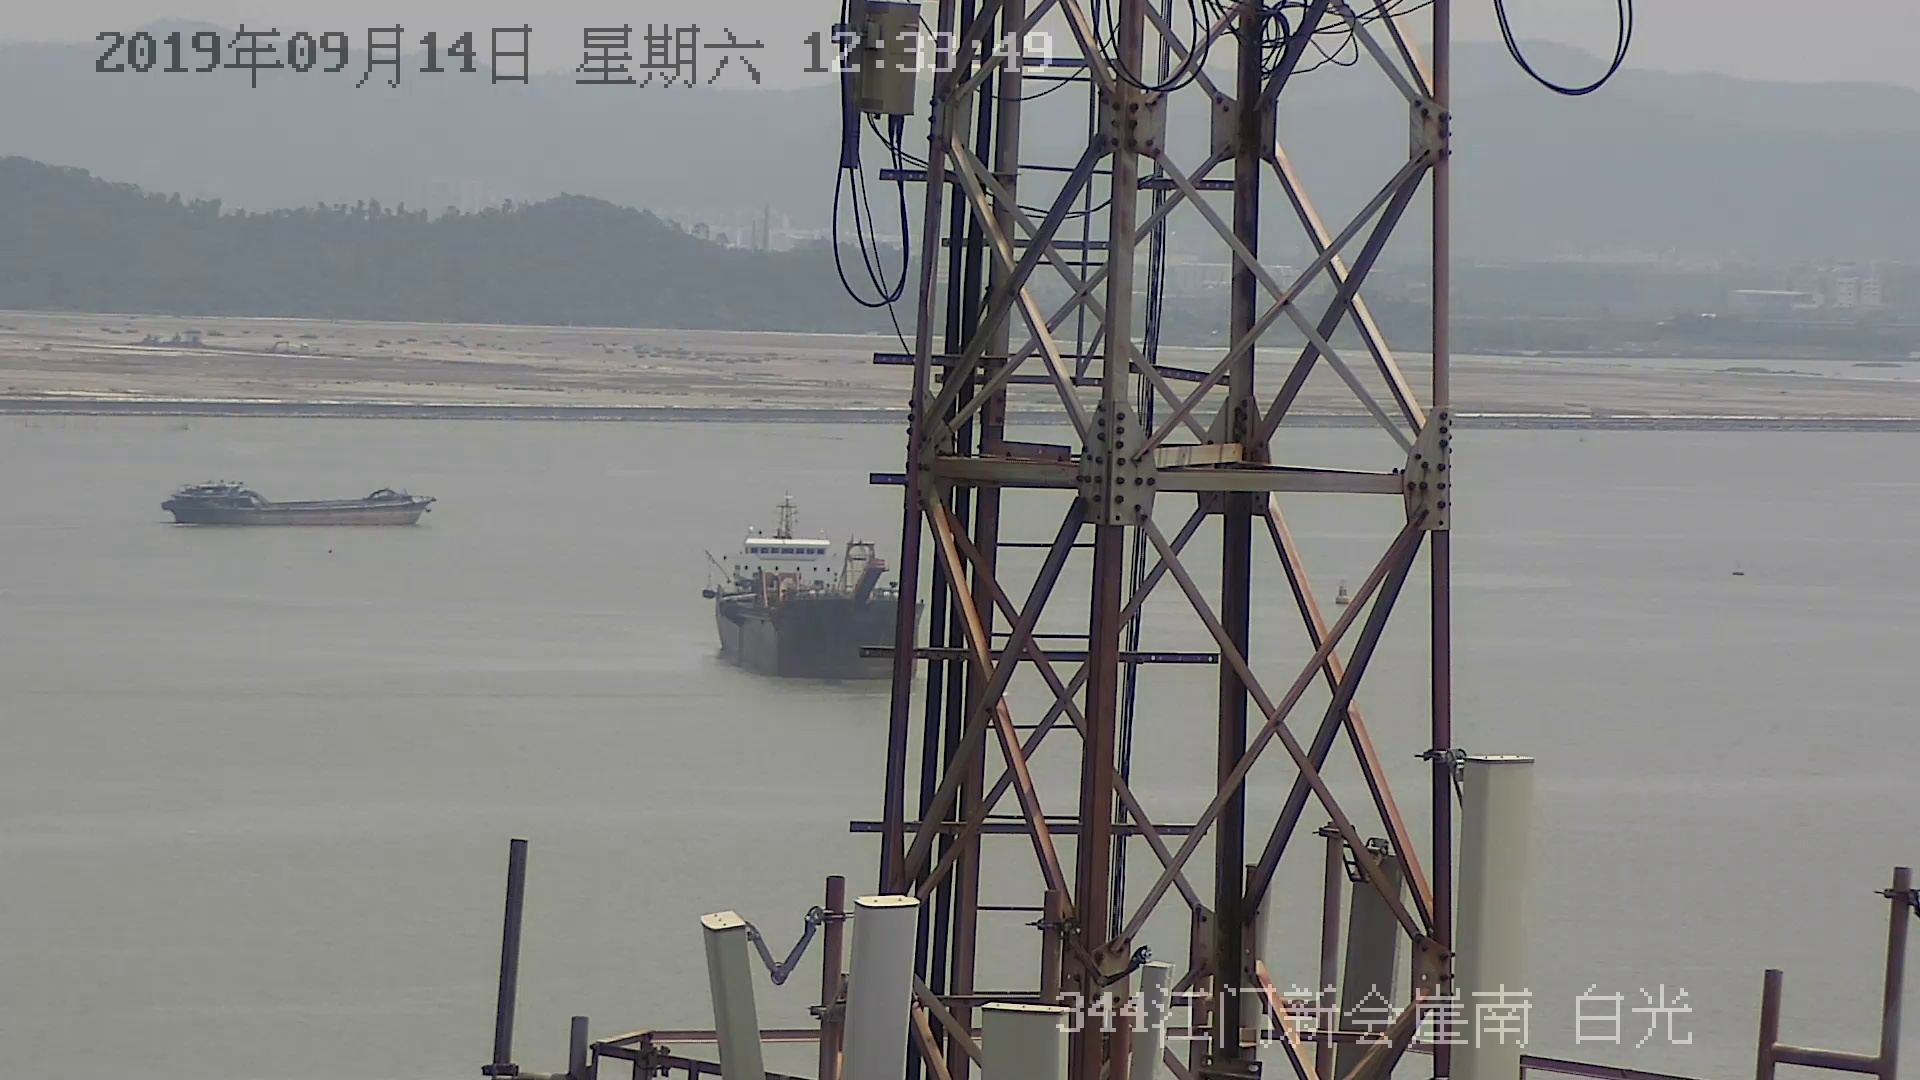ship: (703, 479, 914, 684), (162, 467, 439, 533)
